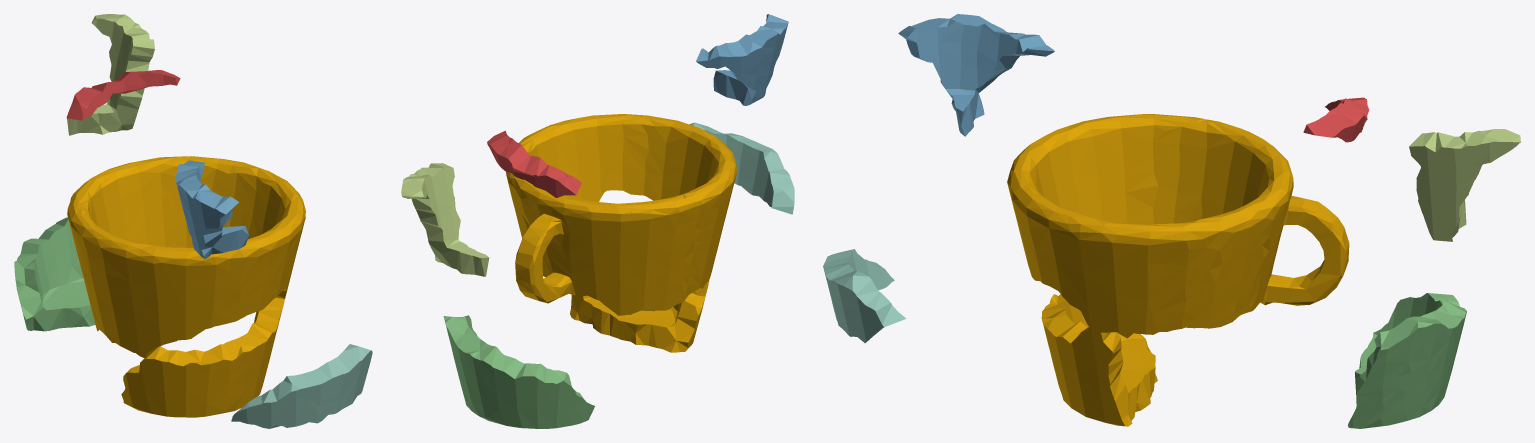
Rendered from fractured_44_6pcs_transformed.glb.
The picture shows the model from 3 angles, left to right: view 1: azimuth 30°, elevation 25°; view 2: azimuth 150°, elevation 25°; view 3: azimuth 270°, elevation 25°; orthographic projection. The views are drawn at different scales.
Parts seen in each view (by area): view 1: piece_0.obj, piece_3.obj, piece_4.obj, piece_5.obj, piece_2.obj, piece_1.obj; view 2: piece_0.obj, piece_3.obj, piece_5.obj, piece_2.obj, piece_4.obj, piece_1.obj; view 3: piece_0.obj, piece_3.obj, piece_2.obj, piece_5.obj, piece_4.obj, piece_1.obj.
Part boxes in pixels (x1,y1,x2,y2): piece_0.obj: [67, 156, 305, 417]; piece_3.obj: [14, 217, 95, 331]; piece_4.obj: [231, 344, 372, 428]; piece_5.obj: [67, 14, 154, 135]; piece_2.obj: [175, 160, 249, 258]; piece_1.obj: [66, 70, 180, 120]; piece_0.obj: [506, 114, 737, 352]; piece_3.obj: [443, 315, 594, 428]; piece_5.obj: [401, 163, 489, 276]; piece_2.obj: [696, 14, 788, 105]; piece_4.obj: [689, 122, 794, 214]; piece_1.obj: [487, 130, 581, 197]; piece_0.obj: [1007, 114, 1349, 426]; piece_3.obj: [1348, 293, 1466, 428]; piece_2.obj: [898, 14, 1054, 136]; piece_5.obj: [1409, 129, 1520, 241]; piece_4.obj: [823, 249, 906, 343]; piece_1.obj: [1303, 97, 1369, 142].
Bounding box in the file's own units: 0.8382 × 1.07 × 2.04.
